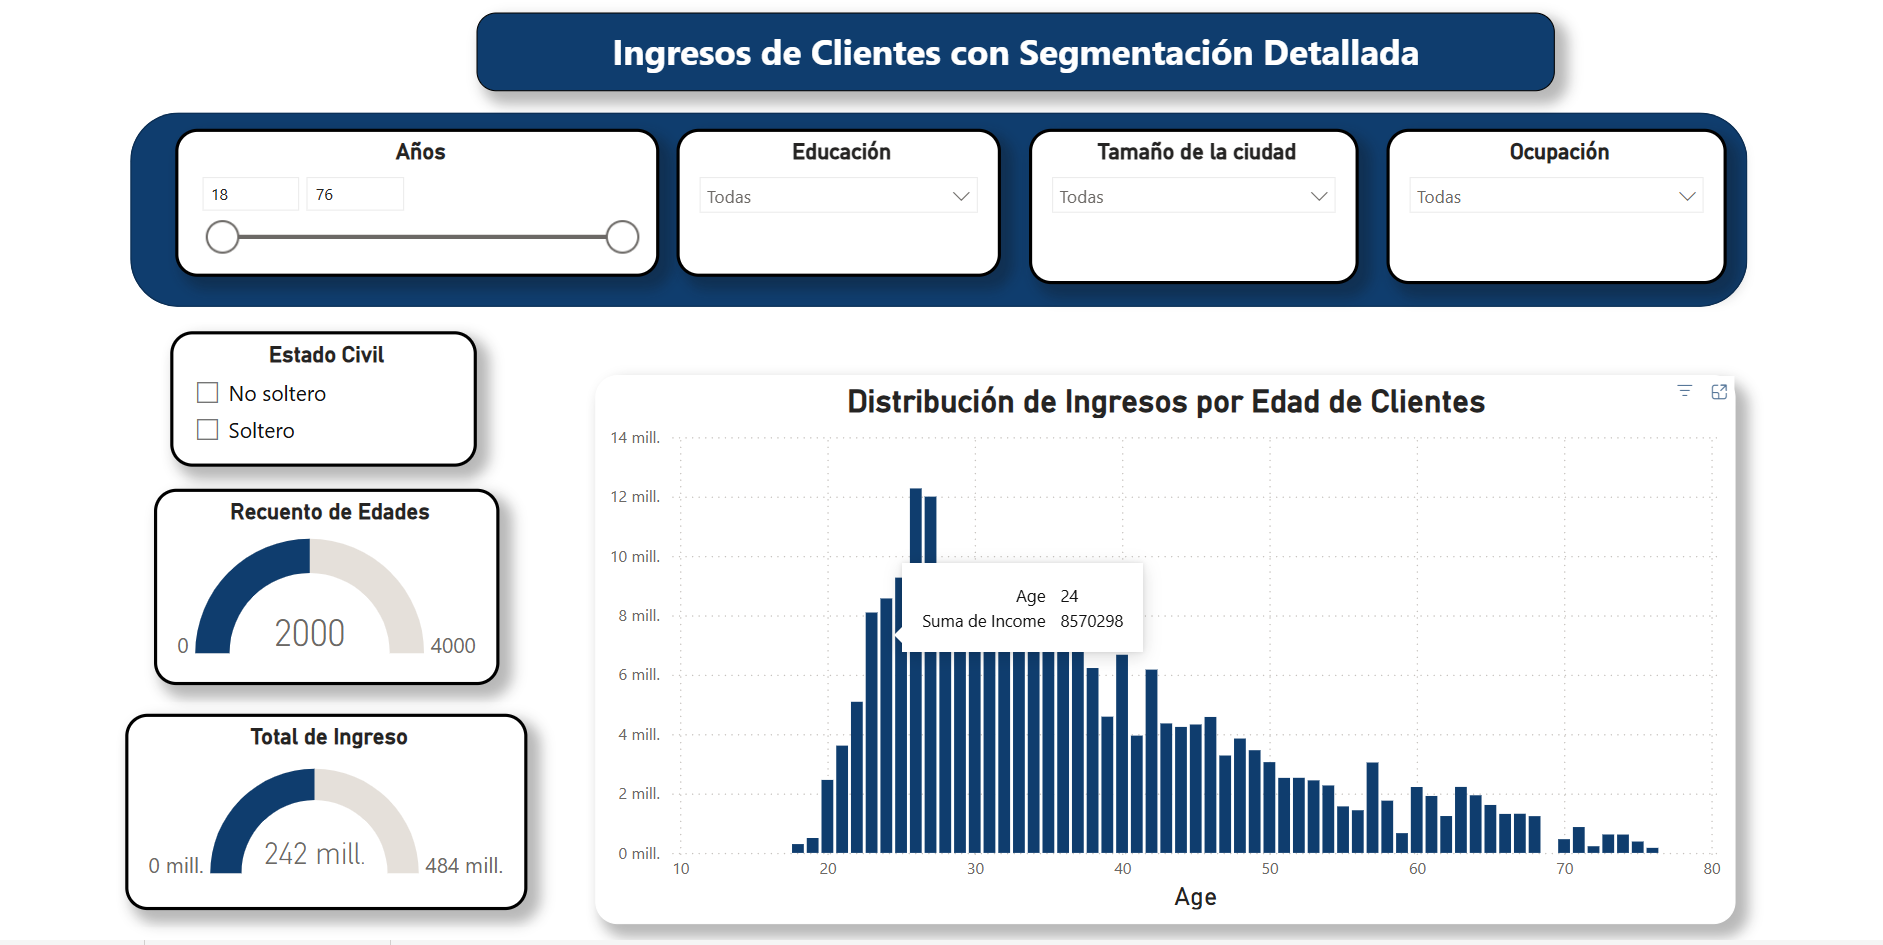

The dashboard page shown, as its layout file describes it:
{"tool":"powerbi","page":{"name":"Página 1","canvas":[1280,720],"ordinal":0},"visuals":[{"type":"shape","box":[35.7,89.2,1232.3,148.2],"z":0},{"type":"lineClusteredColumnComboChart","title":"Distribución de Ingresos por Edad de Clientes","fields":{"Y":["Sum(segmentation data.Income)"],"Category":["segmentation data.Age"]},"box":[389.7,289.5,868.6,418.5],"z":1000},{"type":"slicer","title":"Años","fields":{"Values":["segmentation data.Age"]},"box":[70,101.5,369.1,112.5],"z":2000},{"type":"slicer","title":"Educación","fields":{"Values":["segmentation data.Educación "]},"box":[451.5,101.5,247,112.5],"z":3000},{"type":"slicer","title":"Estado Civil","fields":{"Values":["segmentation data.Estado Civil"]},"box":[65.9,256.6,233.3,102.9],"z":4000},{"type":"gauge","fields":{"Y":["Sum(segmentation data.Income)"]},"box":[31.6,547.5,306,149.6],"z":5000},{"type":"gauge","fields":{"Y":["Divide(CountNonNull(segmentation data.Age), ScopedEval(CountNonNull(segmentation data.Age), []))"]},"box":[53.5,376,263.5,149.6],"z":6000},{"type":"slicer","title":"Ocupación","fields":{"Values":["segmentation data.Ocupación"]},"box":[992.1,101.5,259.3,118],"z":7000},{"type":"slicer","title":"Tamaño de la ciudad ","fields":{"Values":["segmentation data.Tamaño de la ciudad "]},"box":[720.4,101.5,251.1,118],"z":8000},{"type":"textbox","box":[299.1,13.7,822,60.4],"z":9000}]}

Visuals, with their boxes in screenshot pixels (x1, y1, x2, y2):
shape: [x1=135, y1=106, x2=1732, y2=298]
"Distribución de Ingresos por Edad de Clientes" lineClusteredColumnComboChart: [x1=593, y1=365, x2=1719, y2=908]
"Años" slicer: [x1=179, y1=122, x2=657, y2=268]
"Educación" slicer: [x1=674, y1=122, x2=994, y2=268]
"Estado Civil" slicer: [x1=174, y1=323, x2=476, y2=456]
gauge - Sum(segmentation data.Income): [x1=129, y1=700, x2=526, y2=894]
gauge - Divide(CountNonNull(segmentation data.Age), ScopedEval(CountNonNull(segmentation data.Age), [])): [x1=158, y1=478, x2=499, y2=672]
"Ocupación" slicer: [x1=1374, y1=122, x2=1710, y2=275]
"Tamaño de la ciudad " slicer: [x1=1022, y1=122, x2=1348, y2=275]
textbox: [x1=476, y1=8, x2=1542, y2=86]
